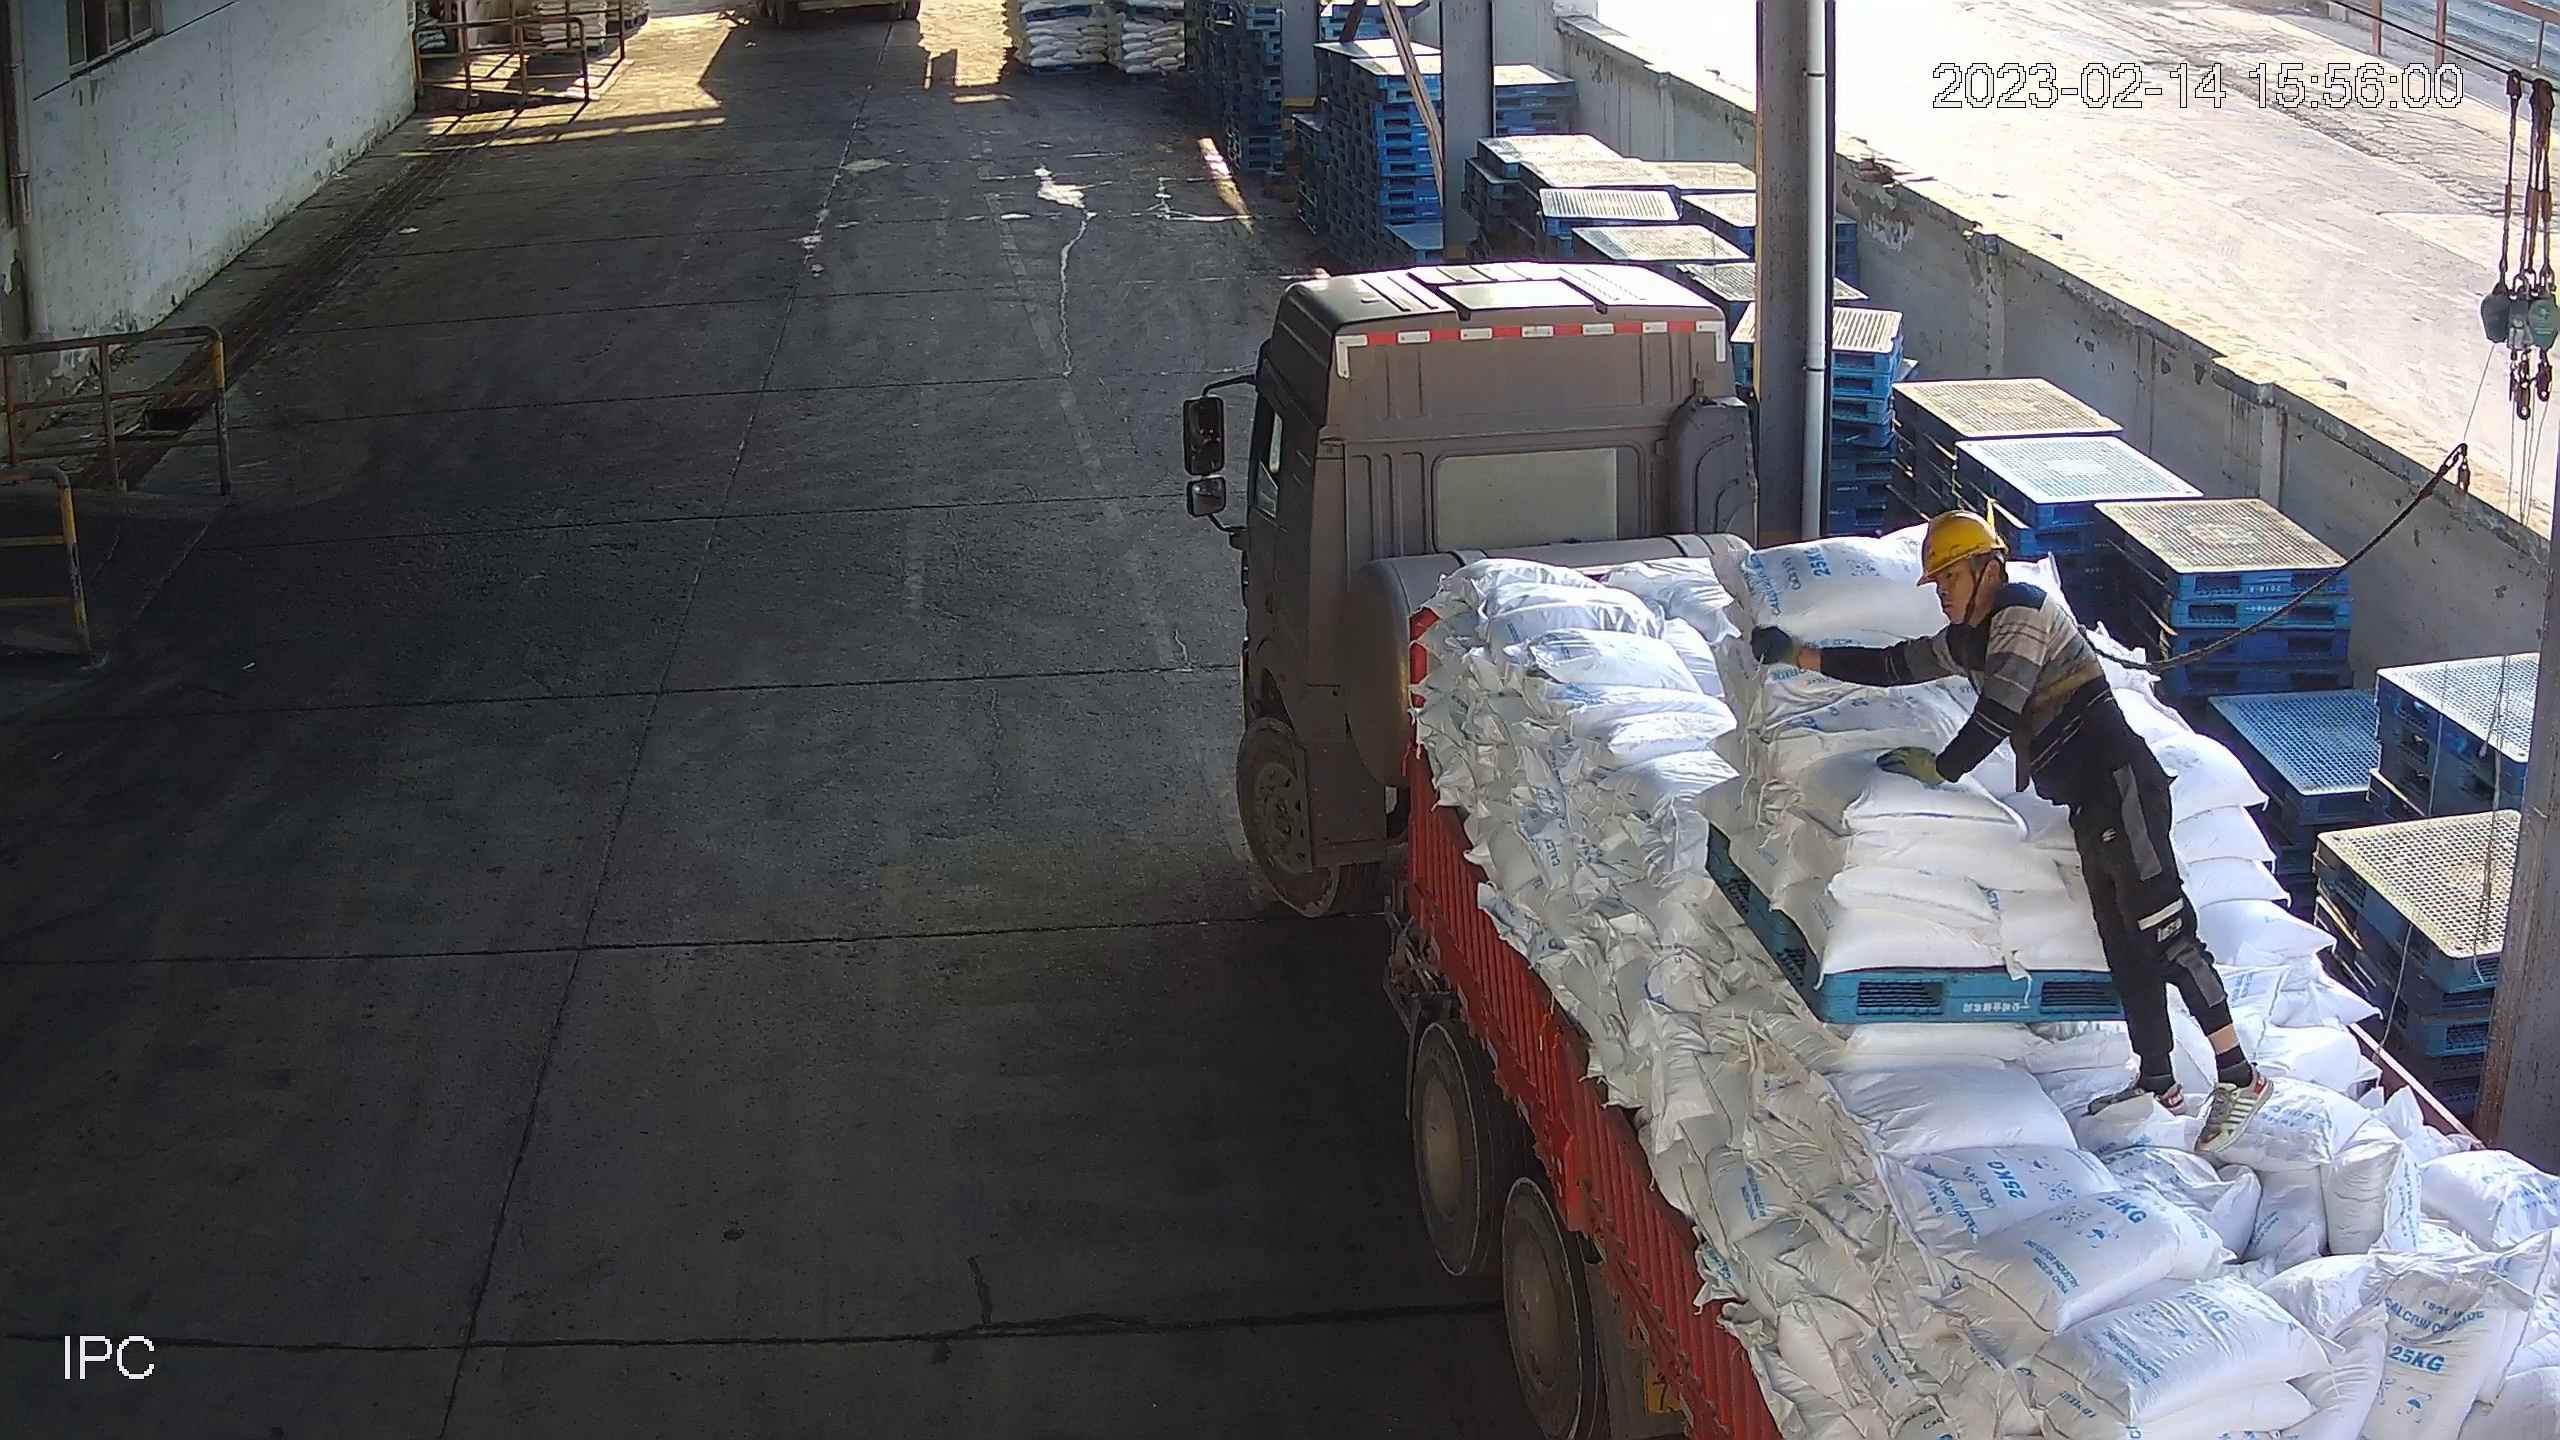belt: (1962, 597, 2140, 716)
head: (1905, 508, 2092, 657)
helmet: (1913, 508, 2009, 588)
people: (1755, 507, 2278, 1154)
truck: (1228, 260, 2560, 1440)
